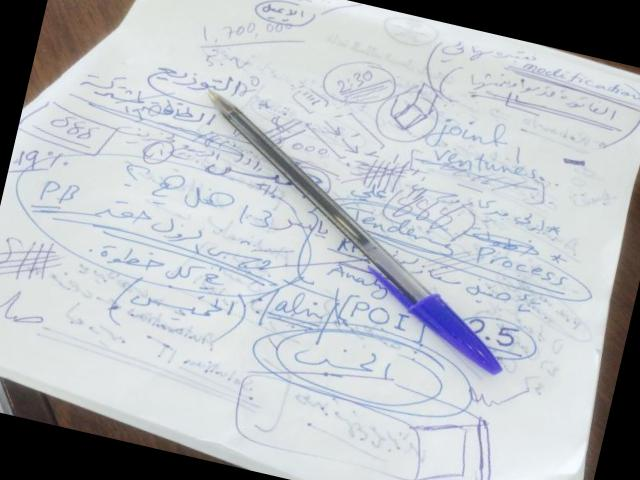PEN: (195, 74, 510, 396)
